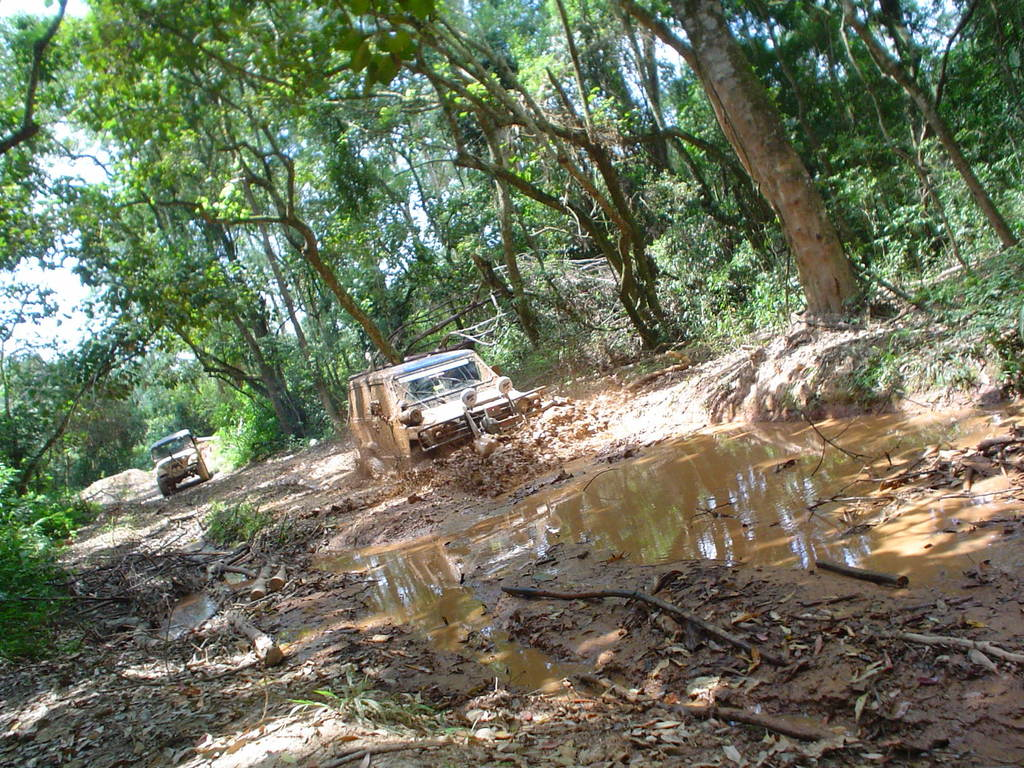cars: (346, 347, 555, 474), (147, 430, 211, 496)
